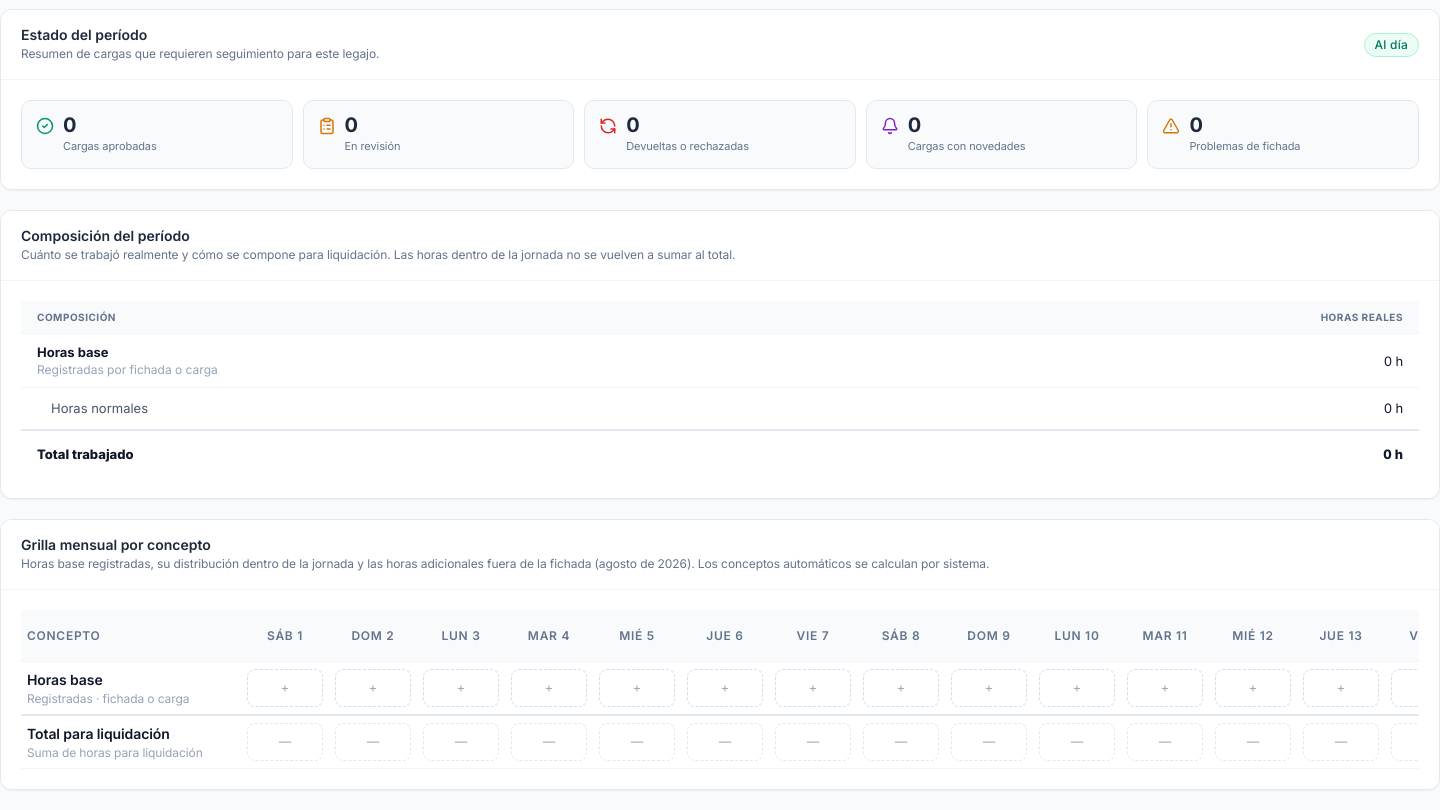
Test: EmployeeHoursPage — Hora normal es universal (bug: HOUR_CONCEPT_NOT_ENABLED sin conceptos adicionales) › el modal 'Cargar Hora normal' permite guardar aunque el legajo no tenga ningún concepto adicional asignado
(page scrolled)
Click the 1st button "+": (285, 688) [247,669,323,707]
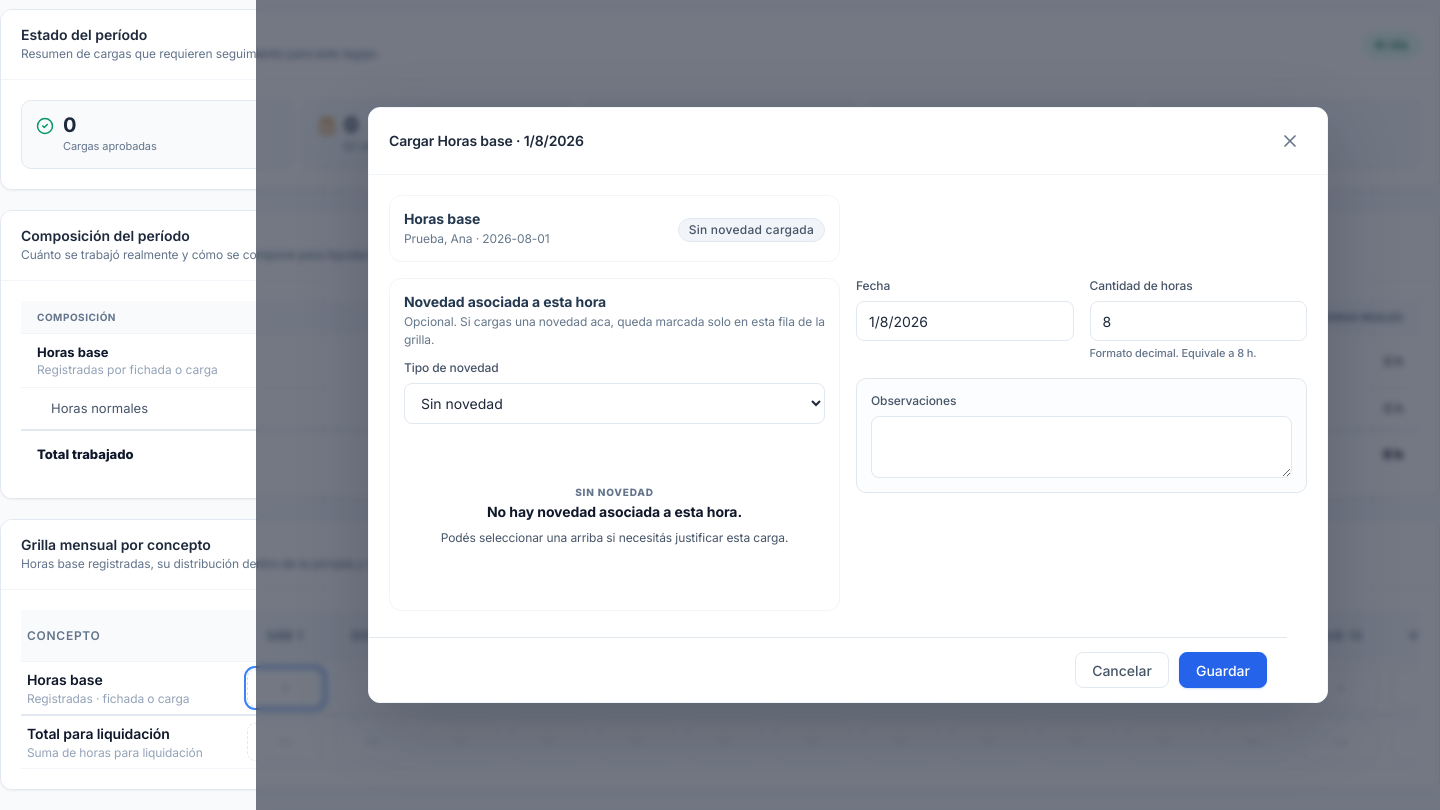
Now the heading "Cargar Horas base · 1/8/2026" is shown, box [389,132,584,149]
Click the button "Guardar": (1223, 670) [1179,652,1267,688]
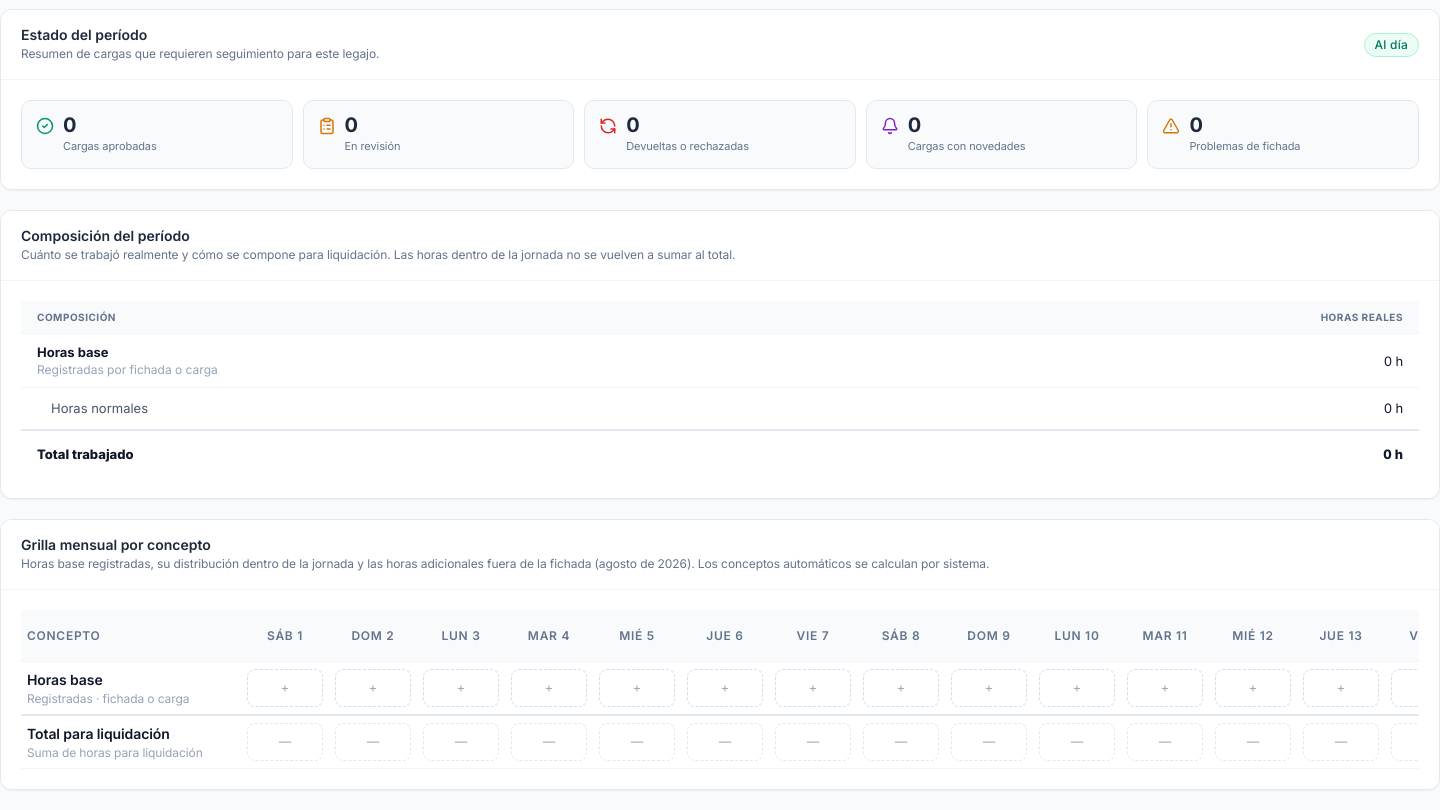
Now the heading "Cargar Horas base" is gone
